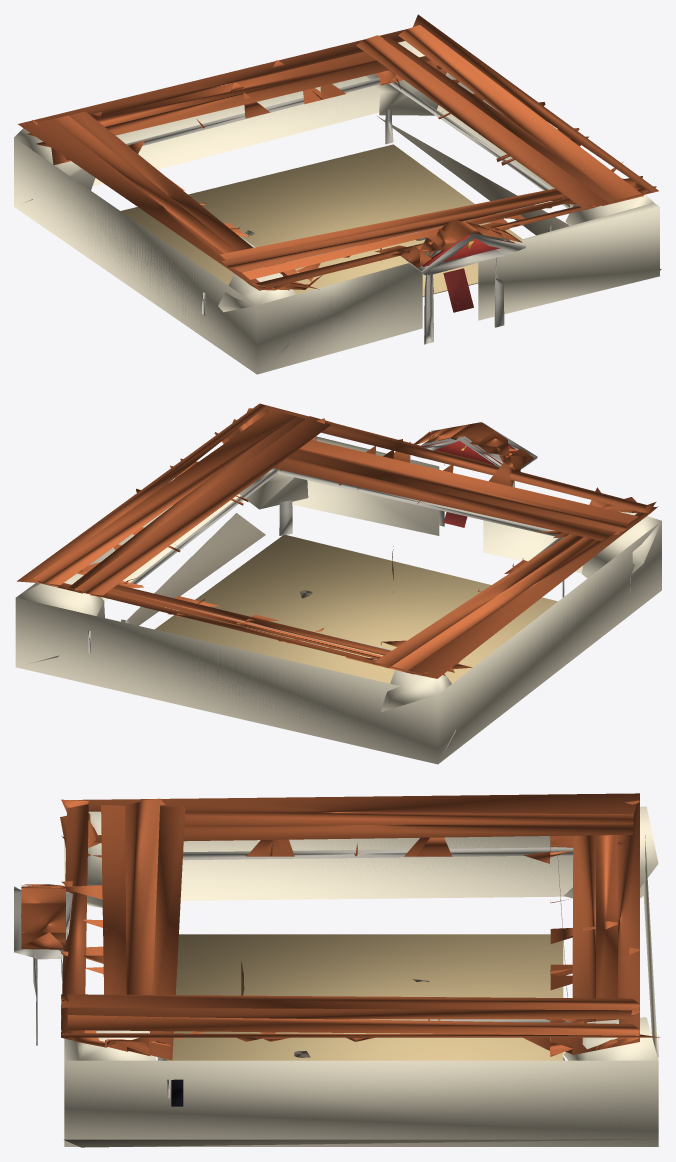
The model's file is civic_gymnasium.glb.
3 views of the same model, one above another, from view 1: azimuth 30°, elevation 25°; view 2: azimuth 150°, elevation 25°; view 3: azimuth 270°, elevation 25° (orthographic). The views are drawn at different scales.
Parts seen in each view (by area): view 1: cream, sand, terracotta1, terracotta0, terracotta2, marble, paving, red_wood, paint_red; view 2: cream, sand, terracotta1, terracotta0, terracotta2, marble, paving, paint_red; view 3: cream, sand, terracotta1, terracotta0, terracotta2, marble, stone_dark.
Part boxes in pixels (x1,y1,x2,y2): cream: [14, 41, 659, 374]; sand: [120, 144, 522, 296]; terracotta1: [32, 14, 658, 290]; terracotta0: [18, 29, 656, 290]; terracotta2: [27, 25, 643, 290]; marble: [126, 77, 569, 344]; paving: [377, 116, 569, 235]; red_wood: [443, 268, 473, 312]; paint_red: [422, 233, 514, 266]; cream: [15, 436, 661, 764]; sand: [154, 535, 557, 683]; terracotta1: [17, 403, 656, 675]; terracotta0: [37, 408, 657, 678]; terracotta2: [33, 410, 656, 675]; marble: [87, 423, 630, 653]; paving: [127, 513, 265, 625]; paint_red: [422, 435, 516, 464]; cream: [64, 806, 658, 1146]; sand: [162, 934, 563, 1060]; terracotta1: [22, 798, 660, 1055]; terracotta0: [21, 793, 639, 1060]; terracotta2: [21, 799, 639, 1056]; marble: [14, 847, 658, 1098]; stone_dark: [64, 1139, 658, 1147].
Size of the model in its own units: 20.2 by 4.93 by 21.82.
